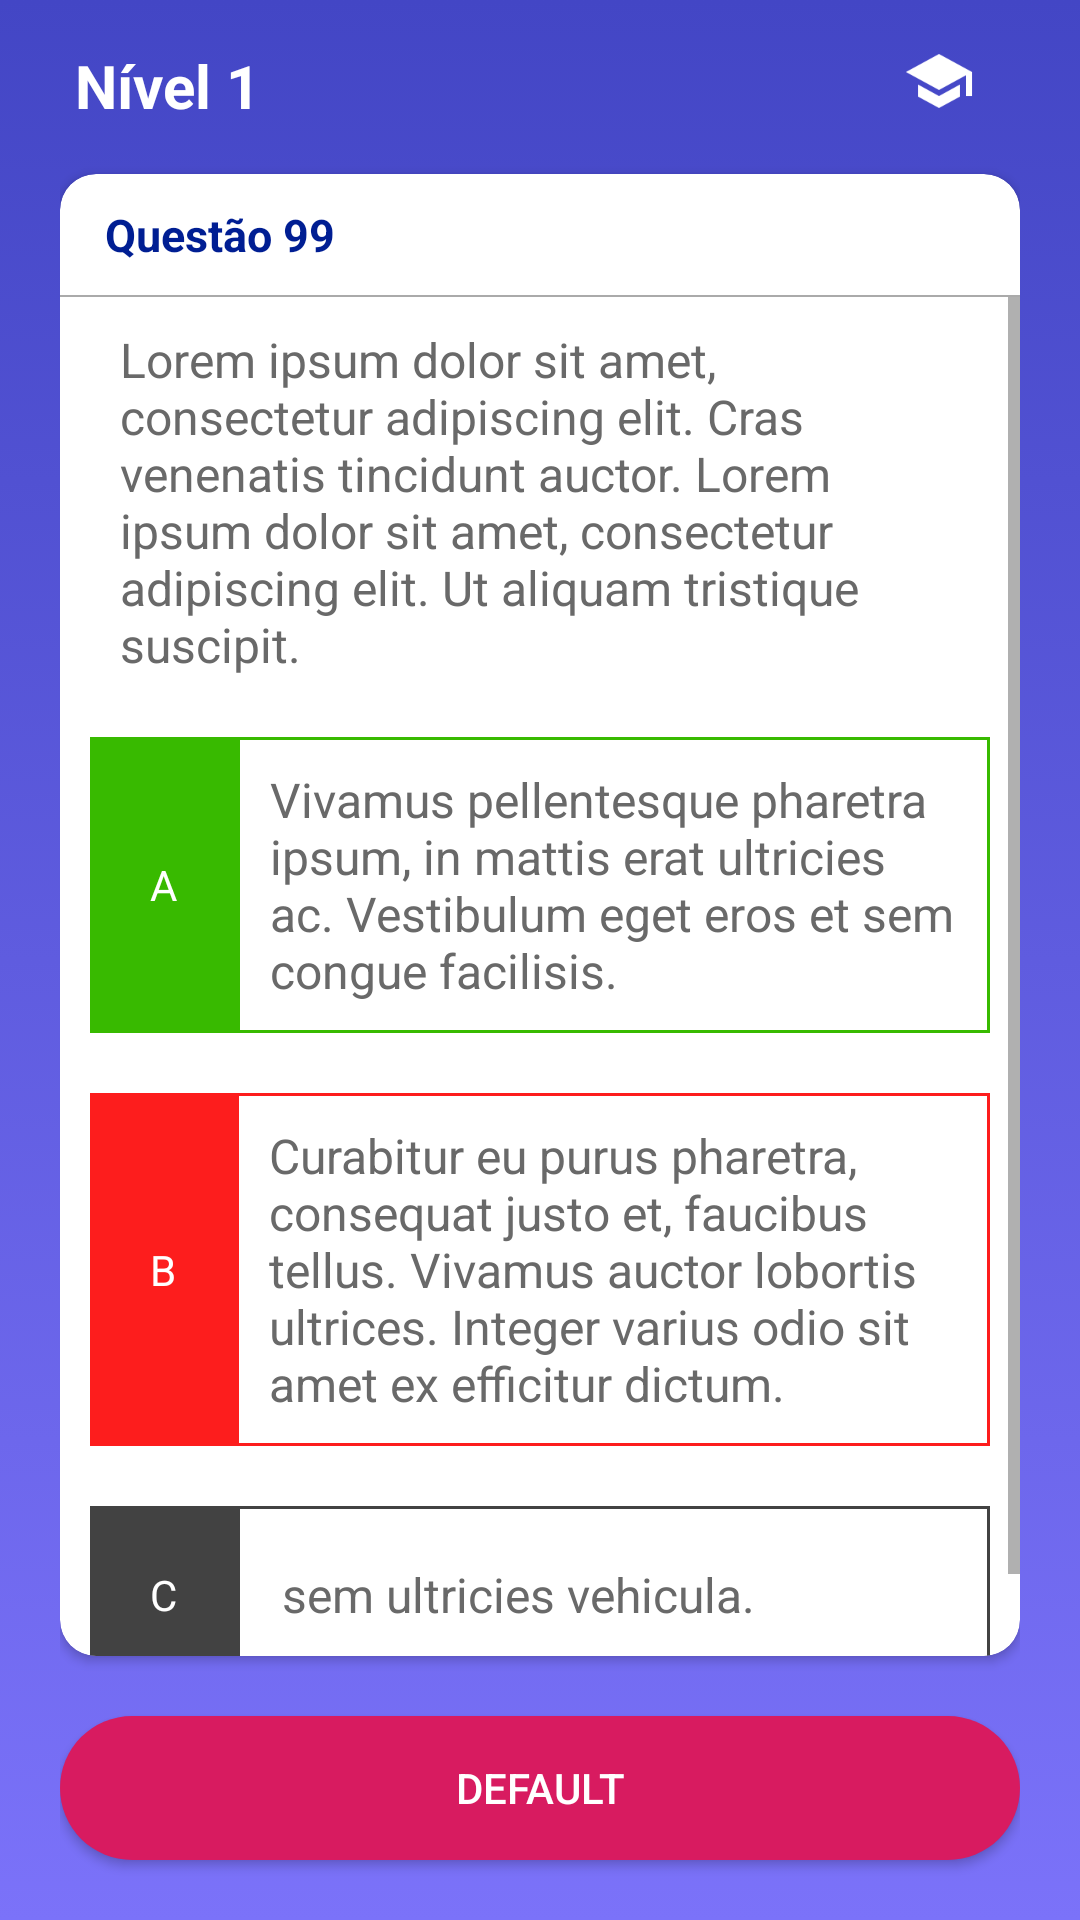

Where icons sit on this 1080 x 1920 app screen, as detection(x1, y1, x2, y2):
school: detection(906, 54, 972, 108)
